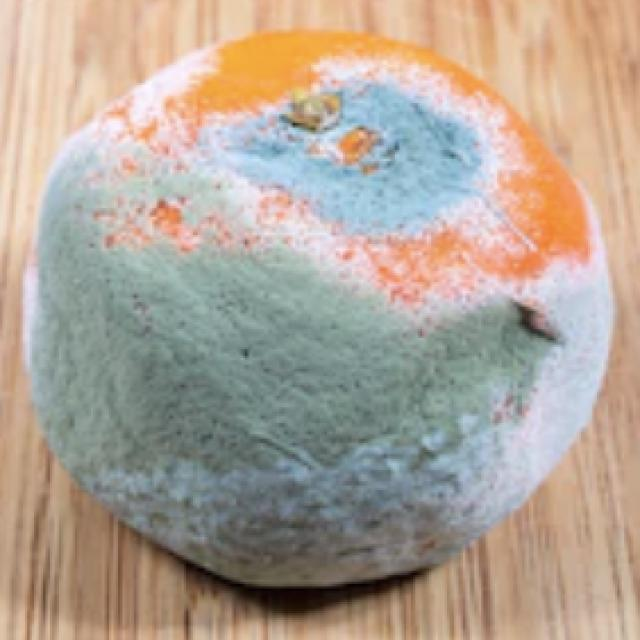rotten-orange: (34, 32, 619, 598)
